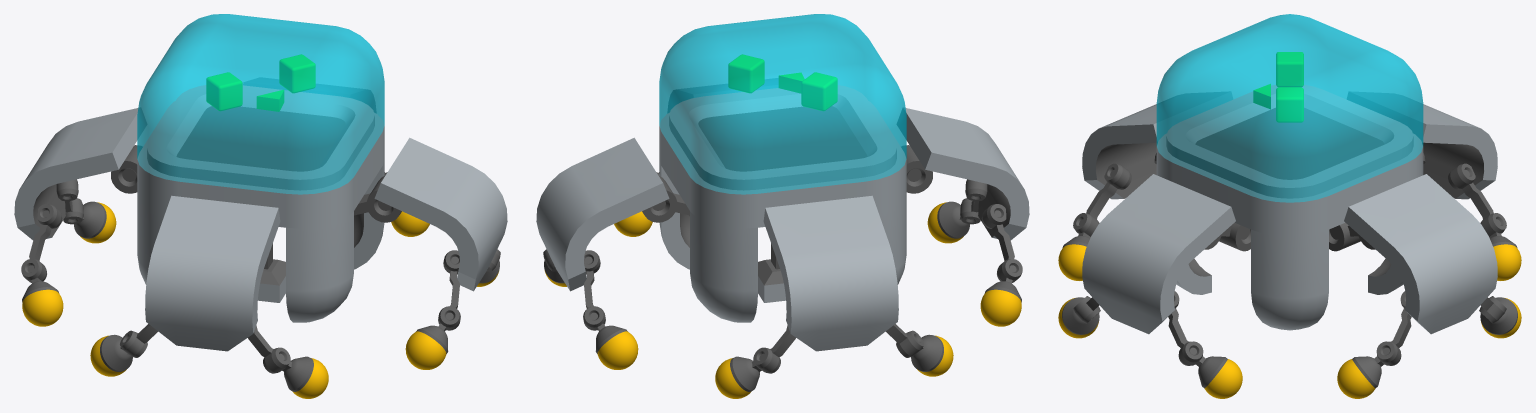
File: Maakerbot_Open.fbx
3 views of the same model, side by side, from view 1: azimuth 30°, elevation 25°; view 2: azimuth 150°, elevation 25°; view 3: azimuth 270°, elevation 25° (orthographic).
Parts seen in each view (by area): view 1: glass, arm1 (×4), top, bottom1, pCylinder109 (×4), pCylinder108 (×3), pCylinder107 (×2), tip4b, tip2a, tip1a, tip2b, tip1b (+5 smaller); view 2: glass, arm1 (×4), top, bottom1, pCylinder109 (×4), pCylinder108 (×3), pCylinder107 (×2), tip3a, tip1b, tip2b, tip1a, tip2a (+5 smaller); view 3: arm1 (×4), glass, top, bottom1, pCylinder108 (×4), pCylinder109 (×4), tip3b, tip4a, pCylinder106 (×2), eye1, eye2, tip1a (+3 smaller).
Part boxes in pixels (x1=…): glass: x1=137, y1=14, x2=384, y2=194; arm1 (×4): x1=14, y1=78, x2=507, y2=351; top: x1=137, y1=85, x2=384, y2=228; bottom1: x1=137, y1=160, x2=384, y2=322; pCylinder109 (×4): x1=21, y1=259, x2=460, y2=373; pCylinder108 (×3): x1=29, y1=179, x2=459, y2=308; pCylinder107 (×2): x1=111, y1=145, x2=401, y2=222; tip4b: x1=405, y1=325, x2=448, y2=369; tip2a: x1=22, y1=281, x2=63, y2=326; tip1a: x1=284, y1=356, x2=328, y2=398; tip2b: x1=74, y1=201, x2=116, y2=243; tip1b: x1=90, y1=334, x2=132, y2=376; glass: x1=659, y1=14, x2=906, y2=194; arm1 (×4): x1=536, y1=78, x2=1029, y2=351; top: x1=659, y1=85, x2=906, y2=228; bottom1: x1=659, y1=160, x2=906, y2=322; pCylinder109 (×4): x1=583, y1=259, x2=1022, y2=373; pCylinder108 (×3): x1=584, y1=179, x2=1014, y2=308; pCylinder107 (×2): x1=642, y1=145, x2=932, y2=222; tip3a: x1=595, y1=325, x2=638, y2=369; tip1b: x1=980, y1=281, x2=1021, y2=326; tip2b: x1=715, y1=356, x2=759, y2=398; tip1a: x1=927, y1=201, x2=969, y2=243; tip2a: x1=911, y1=334, x2=953, y2=376; arm1 (×4): x1=1082, y1=92, x2=1497, y2=334; glass: x1=1156, y1=14, x2=1423, y2=202; top: x1=1156, y1=85, x2=1423, y2=236; bottom1: x1=1176, y1=229, x2=1403, y2=330; pCylinder108 (×4): x1=1086, y1=163, x2=1493, y2=347; pCylinder109 (×4): x1=1073, y1=213, x2=1506, y2=366; tip3b: x1=1337, y1=356, x2=1381, y2=398; tip4a: x1=1198, y1=356, x2=1242, y2=398; pCylinder106 (×2): x1=1219, y1=222, x2=1360, y2=251; eye1: x1=1276, y1=87, x2=1303, y2=122; eye2: x1=1276, y1=52, x2=1303, y2=87; tip1a: x1=1058, y1=236, x2=1089, y2=280.
Size of the model in its own units: 88.58 by 54 by 88.58.
